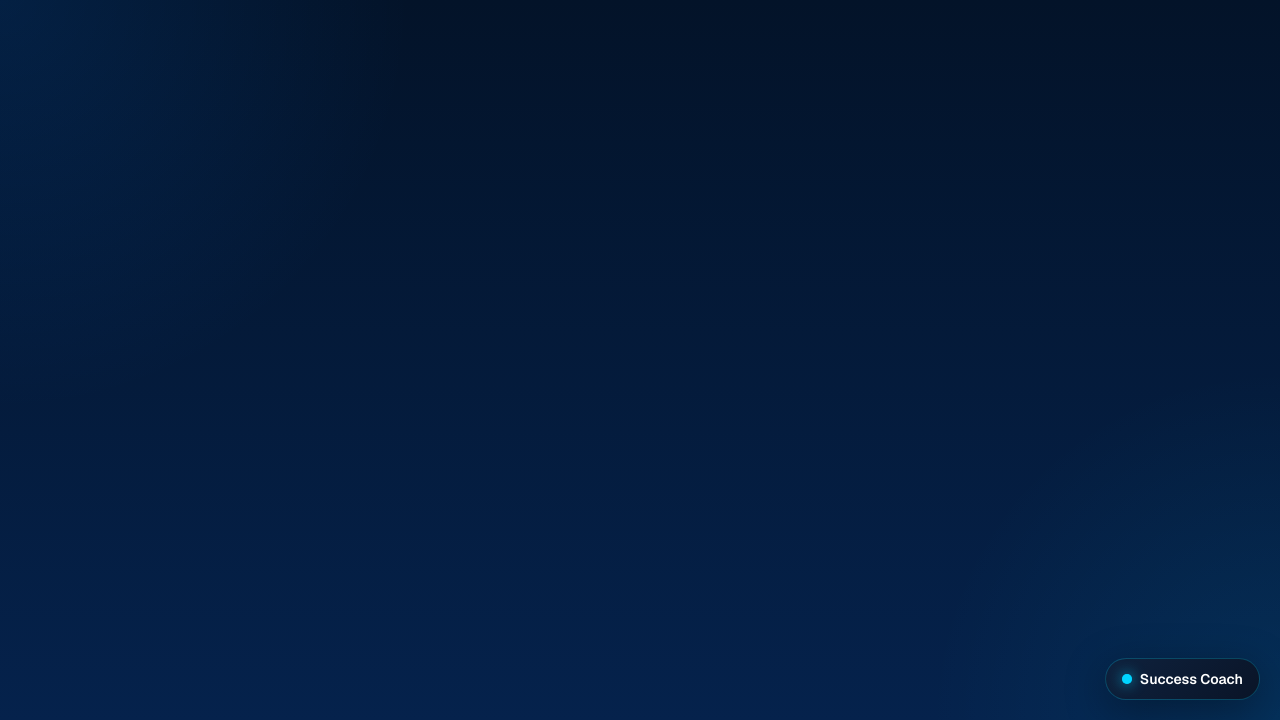
Test: SuccessCoachDock › explains usage limits with an upgrade path
Click the button "Success Coach". click: [1182, 679]
box: x1=1105 y1=658 x2=1260 y2=700
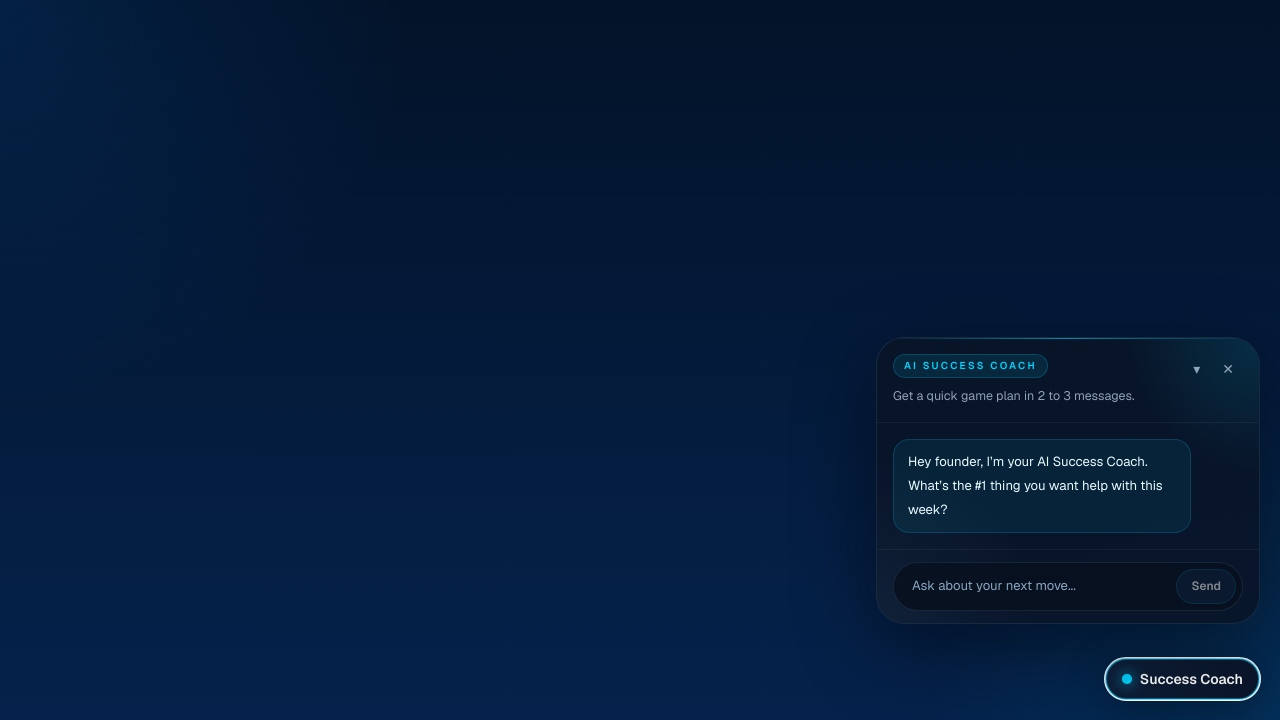
Type "One more" into the field named "Message your Success Coach". click: [1034, 586]
box: x1=900 y1=571 x2=1168 y2=602
Then press Enter
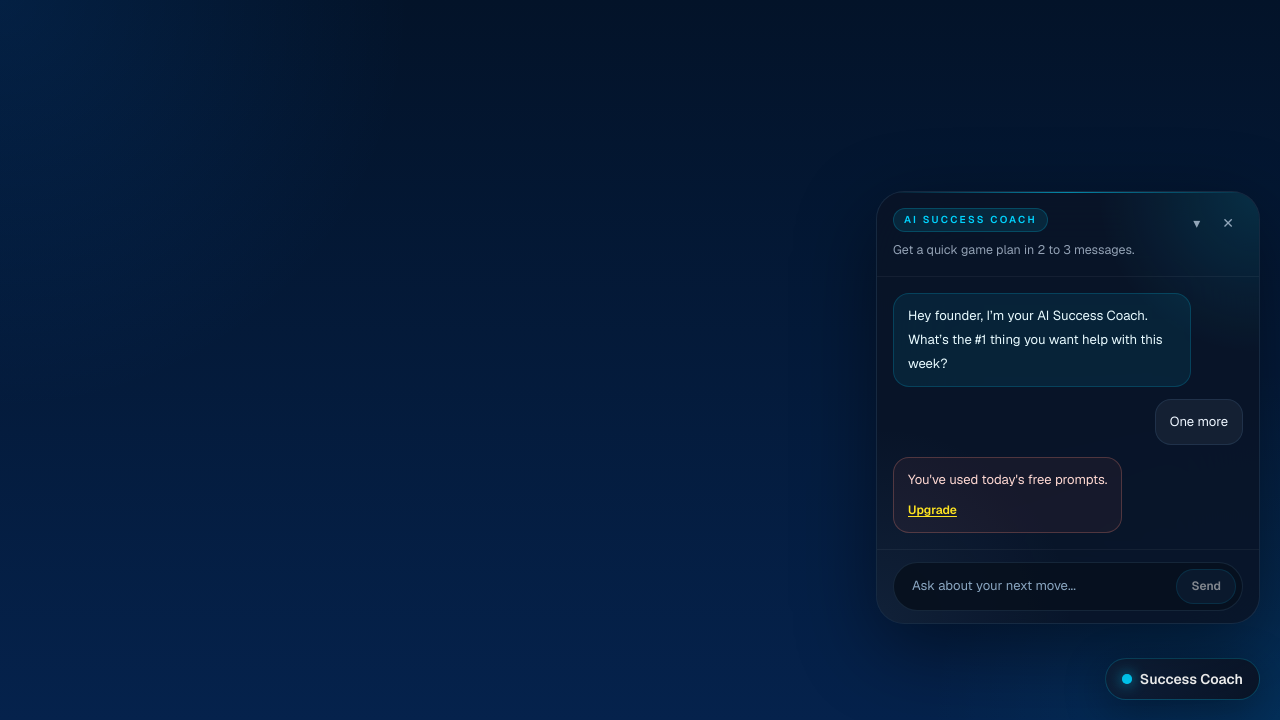
Result: the message shows "You've used today's free prompts." at x1=908 y1=471 x2=1107 y2=488
